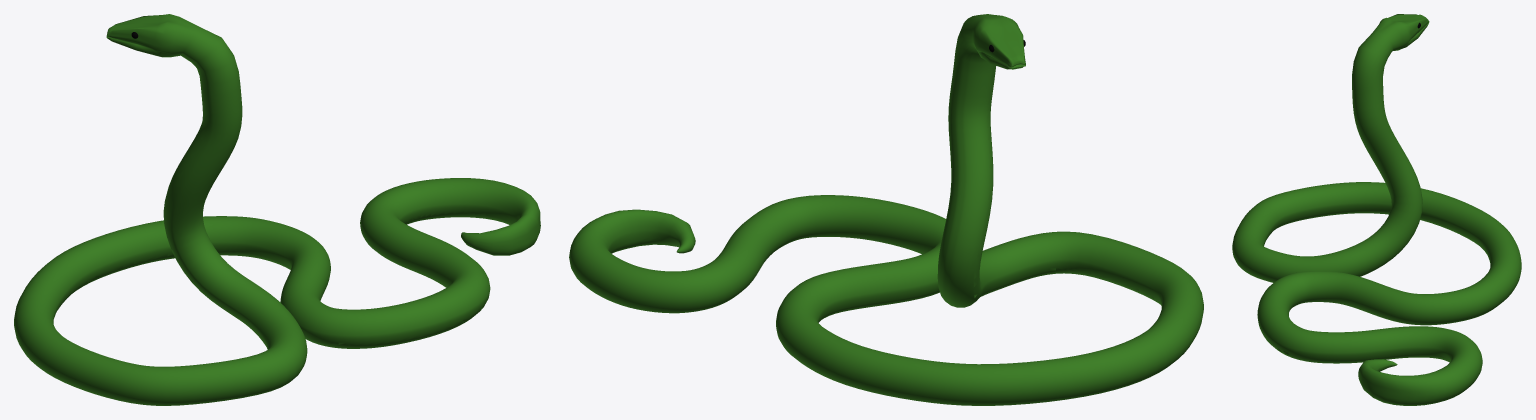
Rendered from Snake.fbx.
3 renders of one model, left to right at view 1: azimuth 30°, elevation 25°; view 2: azimuth 150°, elevation 25°; view 3: azimuth 270°, elevation 25°, orthographic. The views are drawn at different scales.
Parts seen in each view (by area): view 1: pCube2_snake_0; view 2: pCube2_snake_0; view 3: pCube2_snake_0.
Boxes of the visible parts, left/top/right/bottom form: pCube2_snake_0: left=14, top=14, right=540, bottom=405; pCube2_snake_0: left=569, top=14, right=1203, bottom=405; pCube2_snake_0: left=1232, top=14, right=1521, bottom=405.
Size of the model in its own units: 230 by 128 by 138.
